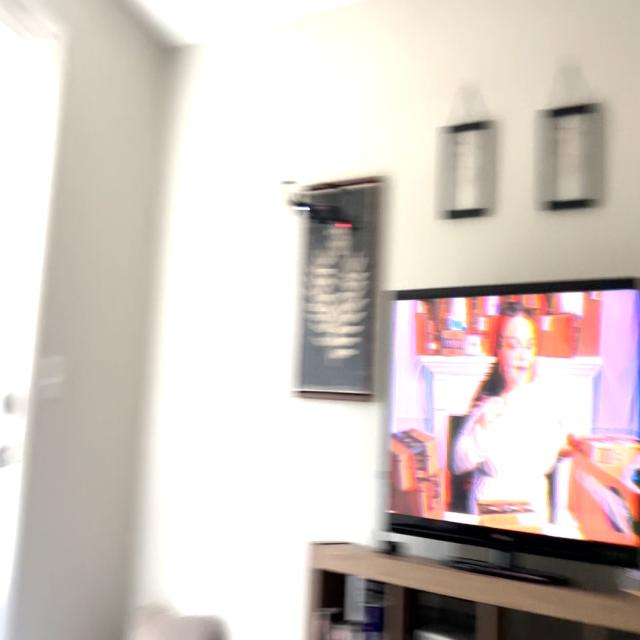drone: (274, 163, 384, 252)
